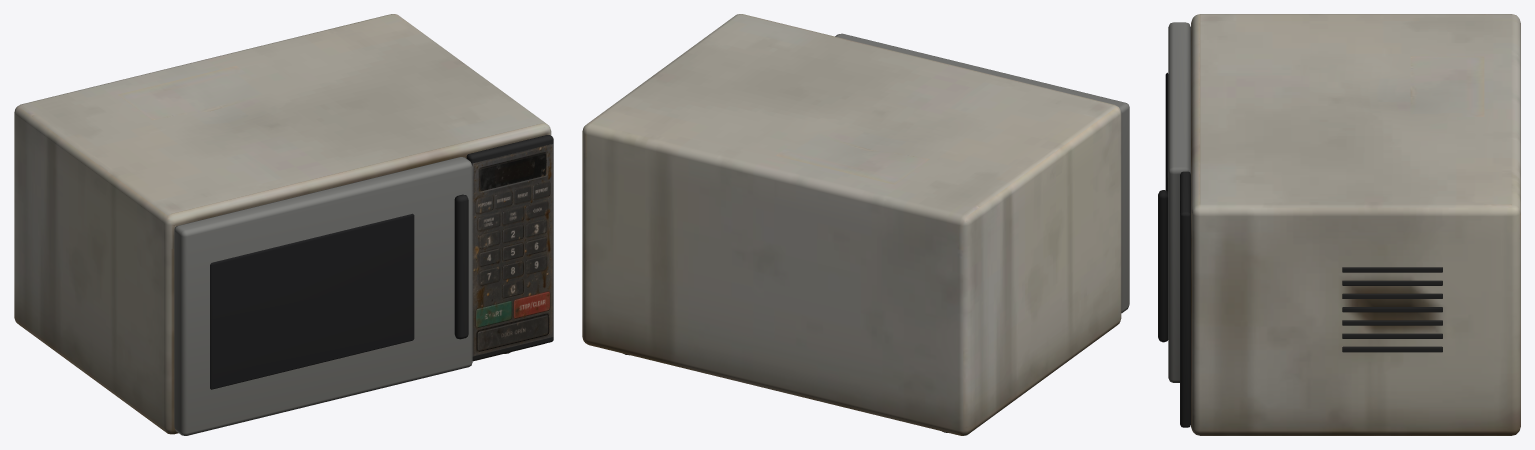
File: microwave.glb
3 views of the same model, side by side, from view 1: azimuth 30°, elevation 25°; view 2: azimuth 150°, elevation 25°; view 3: azimuth 270°, elevation 25° (orthographic). The views are drawn at different scales.
Parts seen in each view (by area): view 1: microwave; view 2: microwave; view 3: microwave.
Boxes of the visible parts, bbox=[...] form: microwave: bbox=[14, 14, 553, 435]; microwave: bbox=[582, 14, 1129, 435]; microwave: bbox=[1158, 14, 1520, 435].
Size of the model in its own units: 0.5122 by 0.29 by 0.396.
6 materials, 2 textured.
